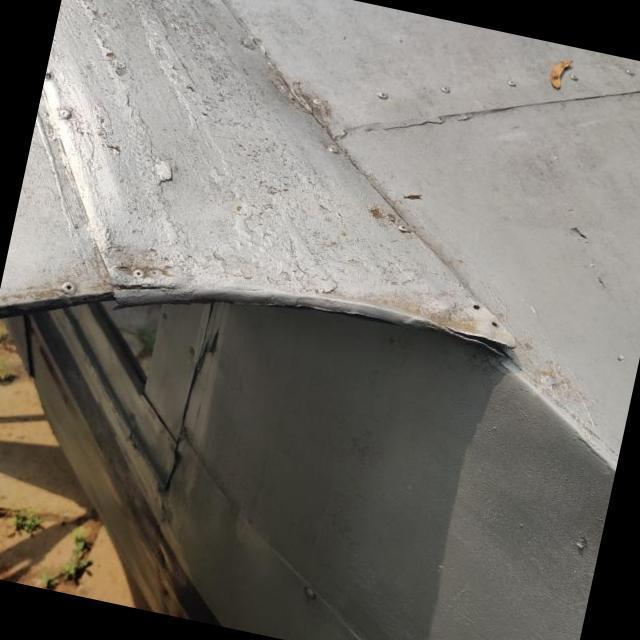Rupture: (416, 306, 536, 384), (99, 253, 189, 320)
